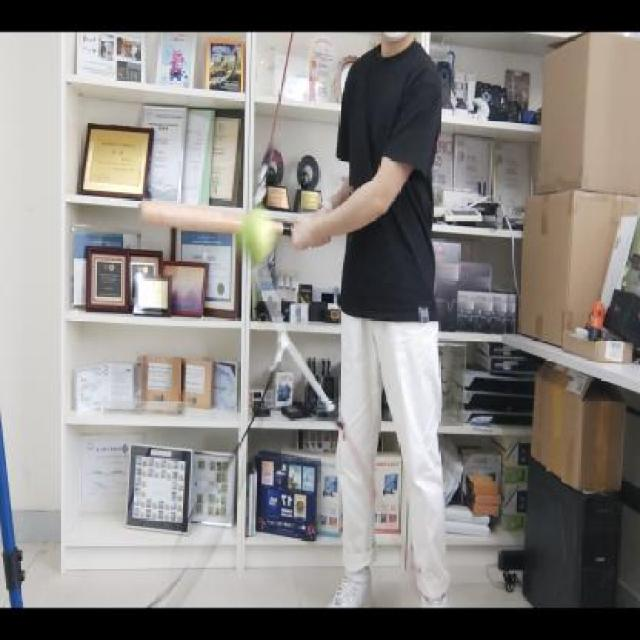baseball: (237, 206, 281, 268)
